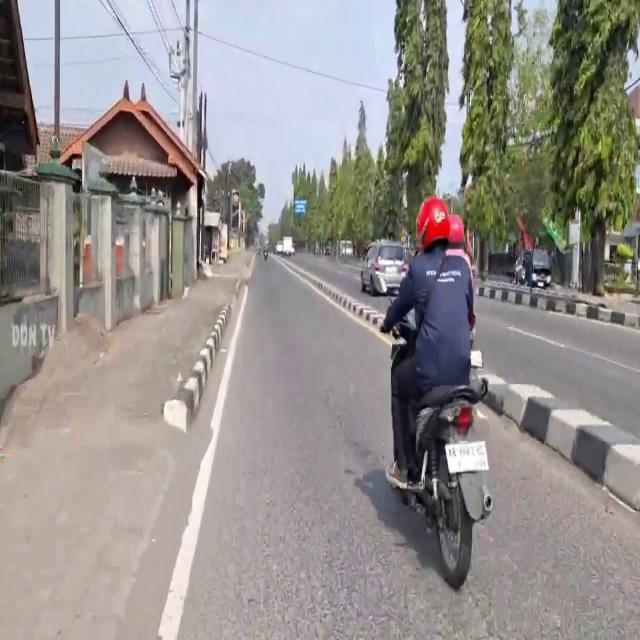WithHelmet: (381, 194, 475, 490), (448, 213, 476, 343)
